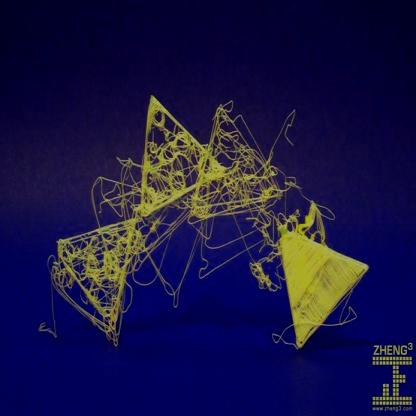fail: (130, 85, 305, 230), (41, 211, 139, 349)
